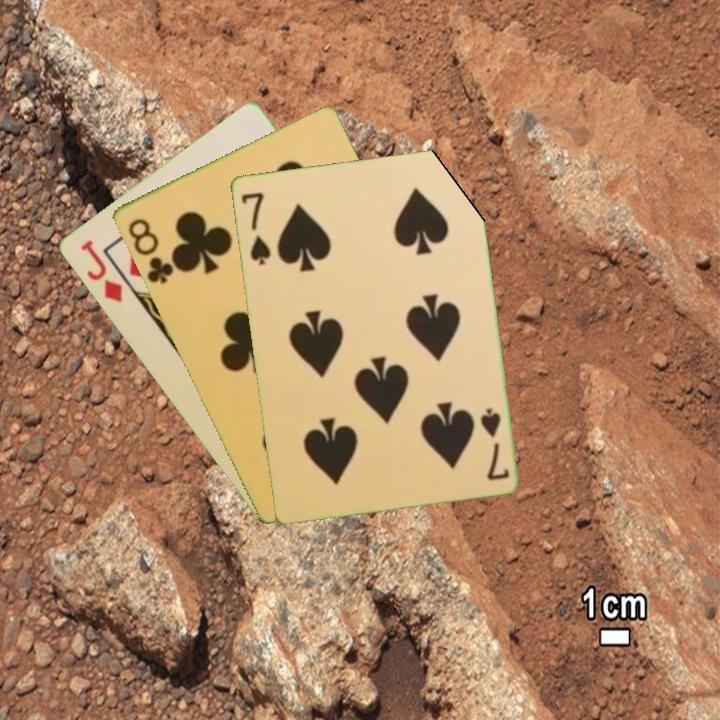7s: (237, 188, 273, 268), (476, 404, 512, 483)
8c: (124, 214, 179, 287)
Jd: (76, 236, 125, 306)
